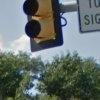Traffic light: (15, 1, 62, 42)
